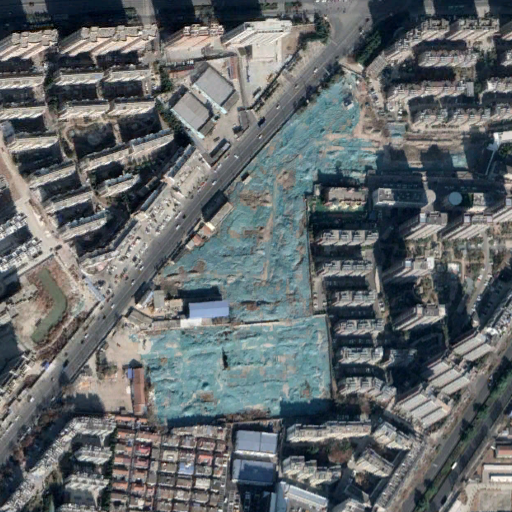cw: (140, 71, 381, 423)
